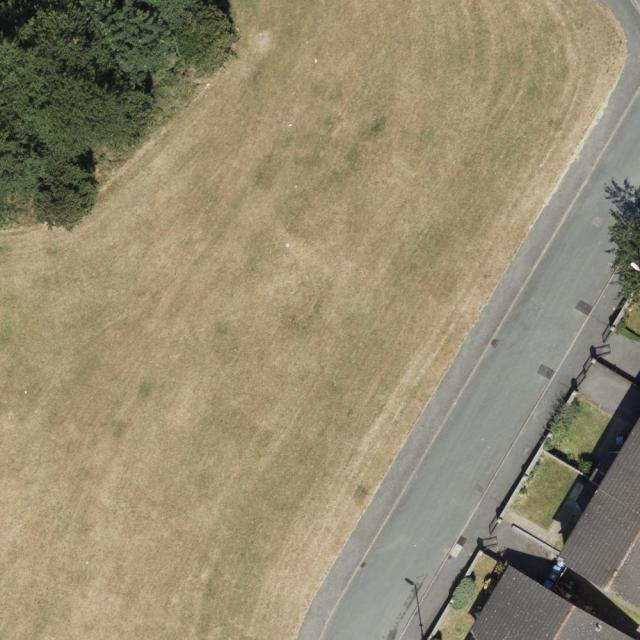roof: (557, 409, 640, 614), (462, 562, 640, 640)
